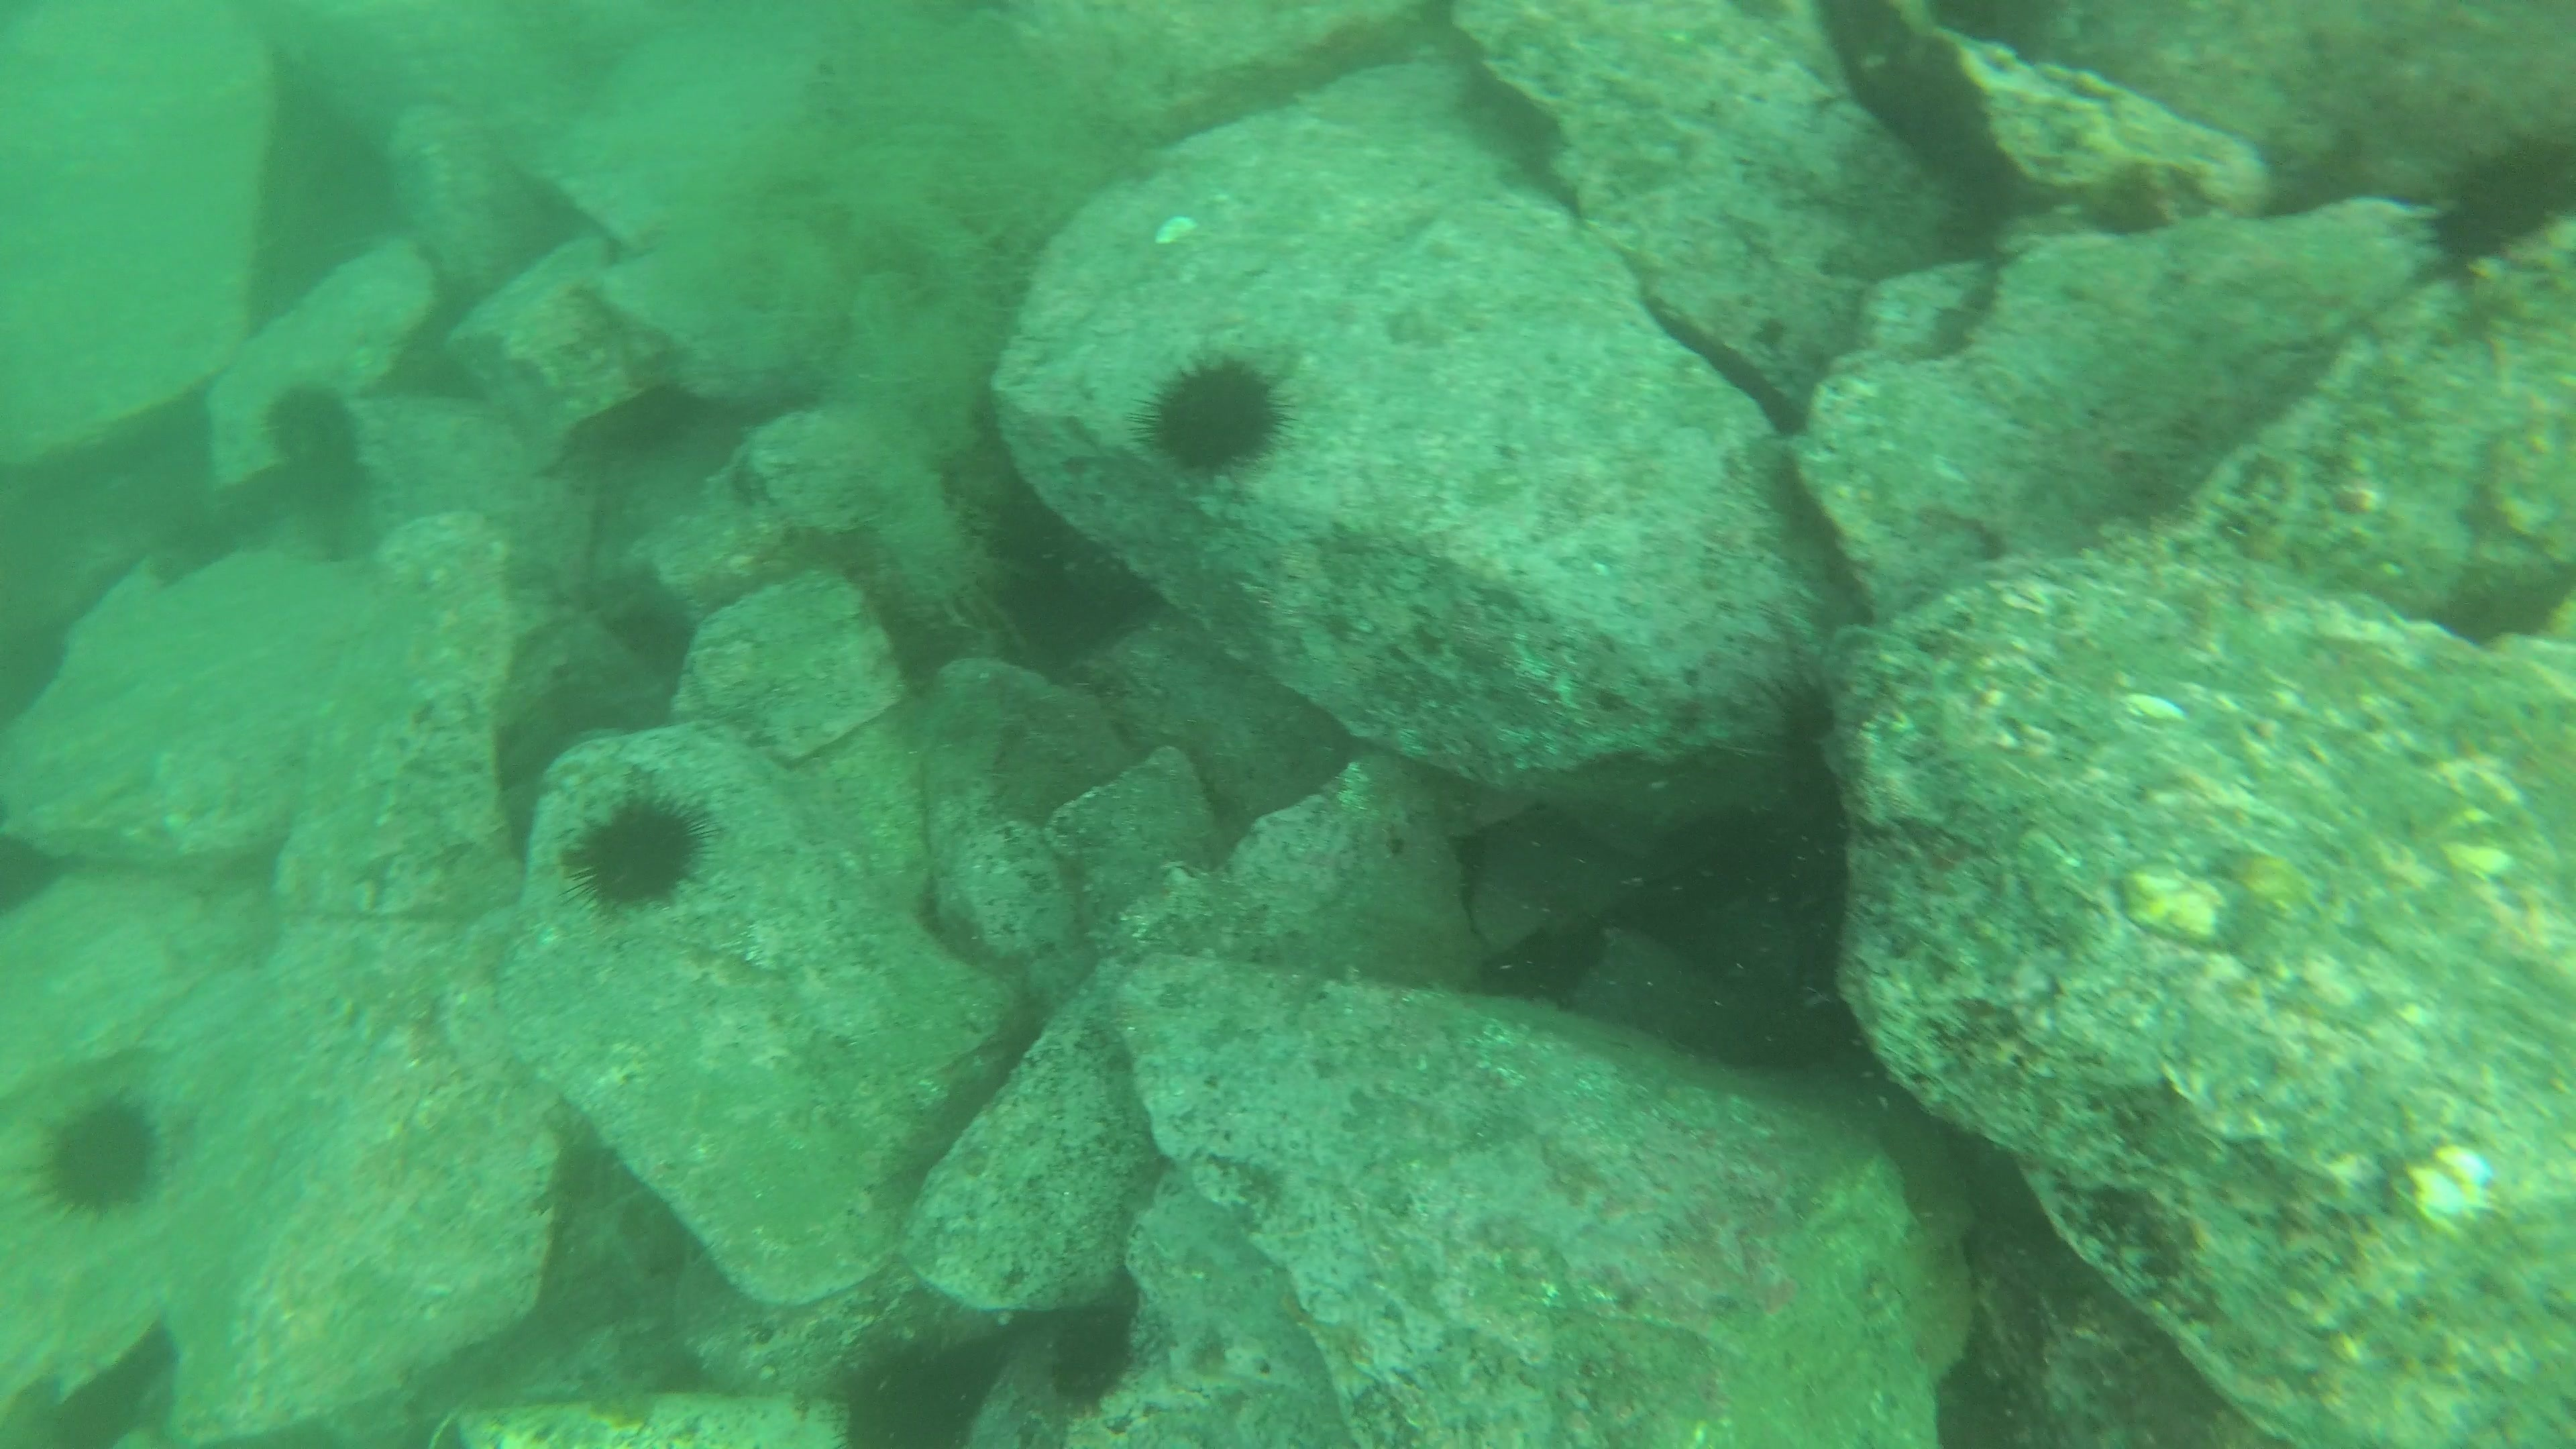echinus: (2417, 122, 2574, 274), (1136, 345, 1295, 479), (561, 782, 715, 918), (30, 1086, 170, 1224), (257, 377, 375, 508)
